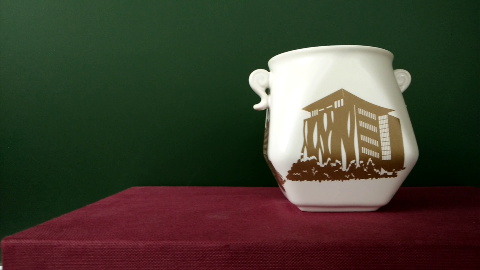library: (299, 100, 396, 172)
